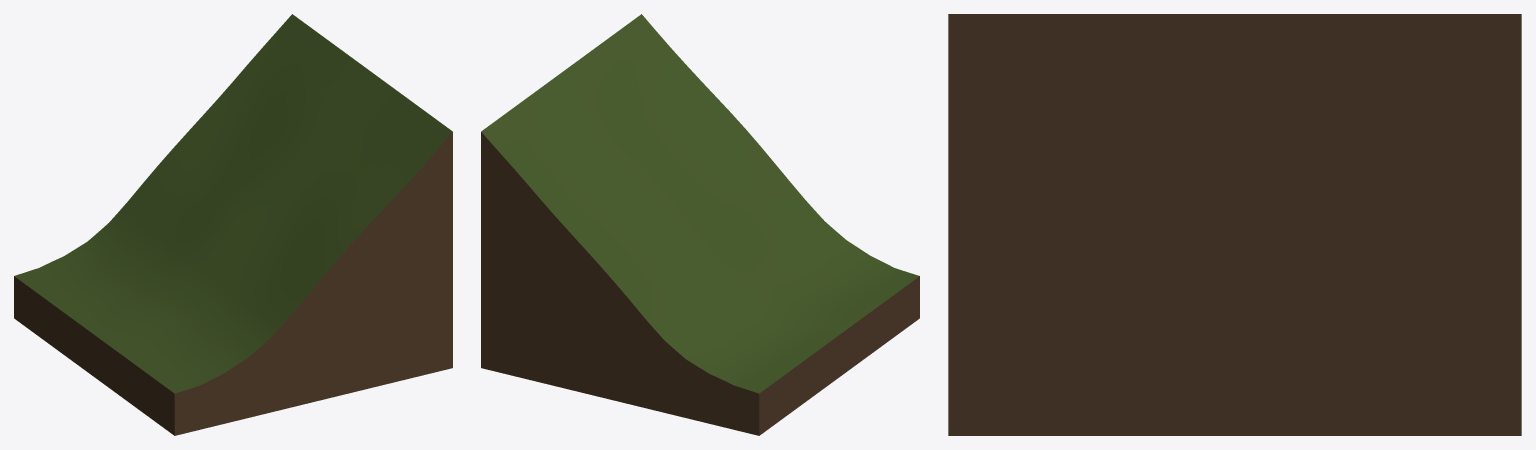
The picture shows the model from 3 angles, left to right: view 1: azimuth 30°, elevation 25°; view 2: azimuth 150°, elevation 25°; view 3: azimuth 270°, elevation 25°; orthographic projection. The views are drawn at different scales.
Visible parts, largest first — view 1: d3go; view 2: d3go; view 3: d3go.
Part boxes in pixels (left/top/right/bottom): d3go: left=14, top=14, right=452, bottom=435; d3go: left=481, top=14, right=919, bottom=435; d3go: left=948, top=14, right=1521, bottom=435.
Bounding box in the file's own units: 9 × 7.31 × 9.
